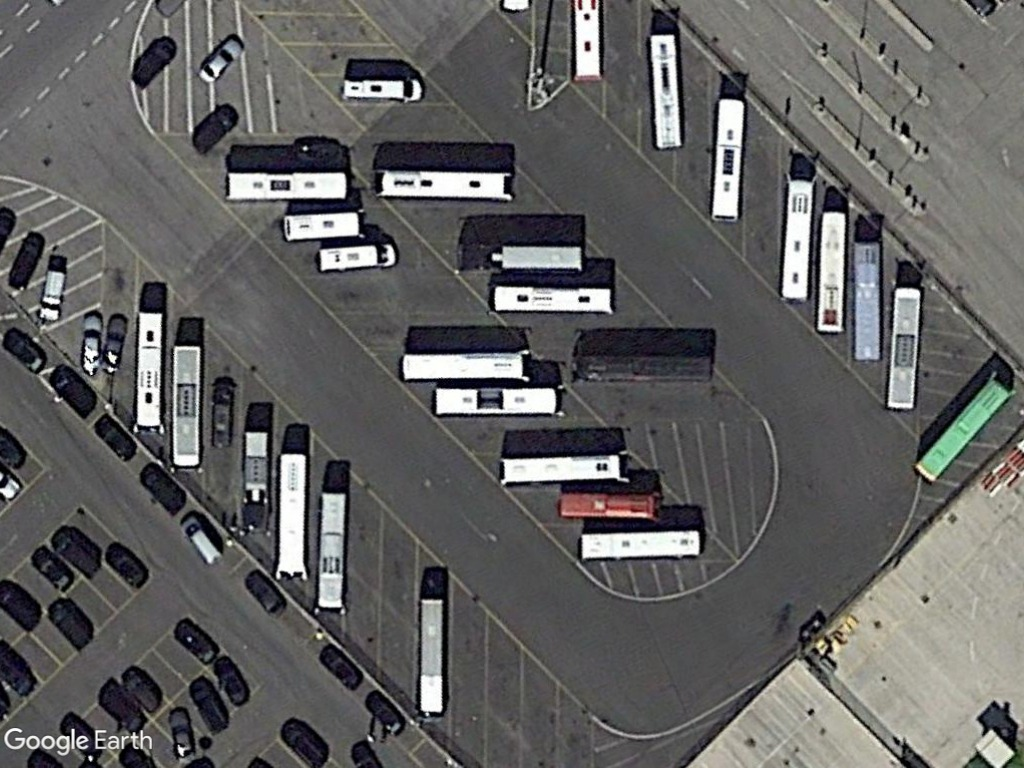bus: (909, 366, 1015, 491), (369, 164, 517, 204), (568, 349, 715, 388), (774, 168, 816, 304), (643, 26, 688, 152), (495, 448, 636, 488), (392, 345, 535, 384), (881, 285, 923, 414), (576, 523, 704, 565), (809, 207, 849, 338), (313, 485, 352, 617), (429, 383, 568, 420), (275, 449, 312, 585), (710, 92, 747, 226), (131, 306, 168, 438), (488, 280, 616, 318), (848, 235, 883, 366), (223, 168, 350, 204), (416, 591, 448, 722), (169, 342, 201, 472), (555, 487, 667, 524), (279, 206, 368, 244)
car: (197, 31, 245, 88), (166, 706, 196, 760)
longvehicle: (453, 235, 588, 276)
truck: (38, 265, 68, 328)
van: (313, 241, 402, 274), (336, 73, 425, 104), (176, 513, 222, 568), (208, 377, 238, 451)
